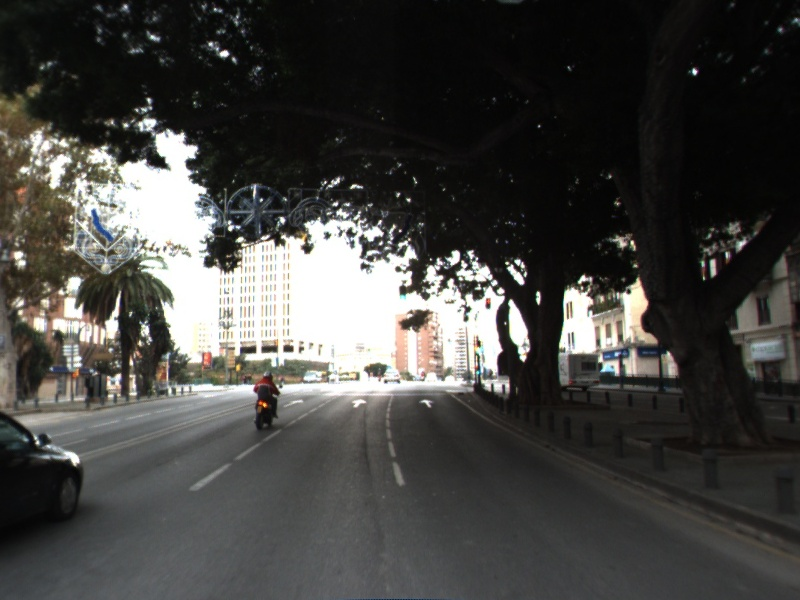STRAIGHT: (281, 396, 306, 409), (417, 397, 437, 410), (349, 397, 369, 410)
